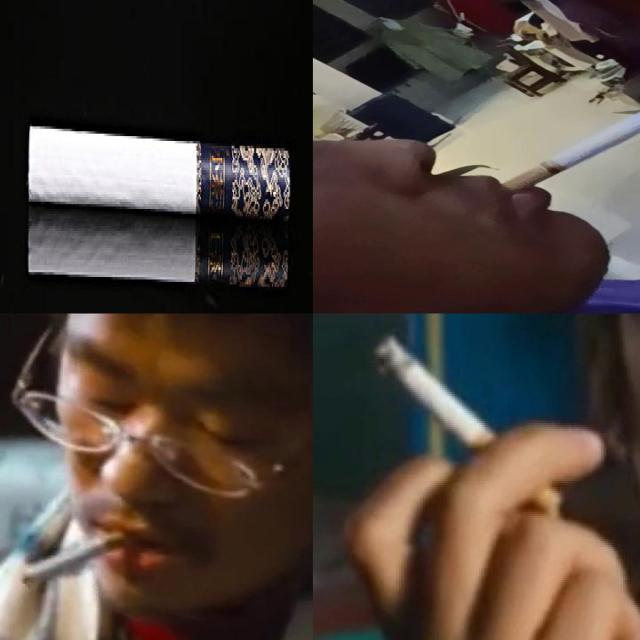smoking: (376, 333, 562, 518), (28, 124, 291, 217), (28, 207, 290, 291), (500, 91, 640, 195), (20, 524, 139, 587)
